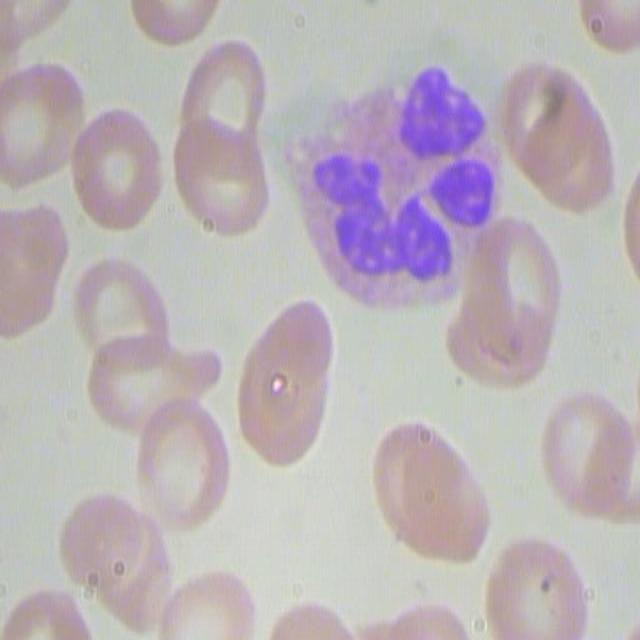RBC: (87, 248, 206, 437), (442, 201, 559, 390), (172, 34, 277, 238), (496, 59, 619, 222), (375, 415, 492, 567), (237, 297, 334, 468), (64, 492, 178, 632), (535, 386, 637, 525), (136, 393, 229, 535), (269, 576, 469, 640), (68, 101, 162, 234), (485, 532, 592, 637), (182, 34, 270, 156), (0, 62, 80, 192), (0, 192, 64, 340), (156, 566, 258, 640), (124, 0, 226, 46), (7, 592, 96, 640), (572, 0, 640, 54)
WBC: (290, 55, 522, 291)
